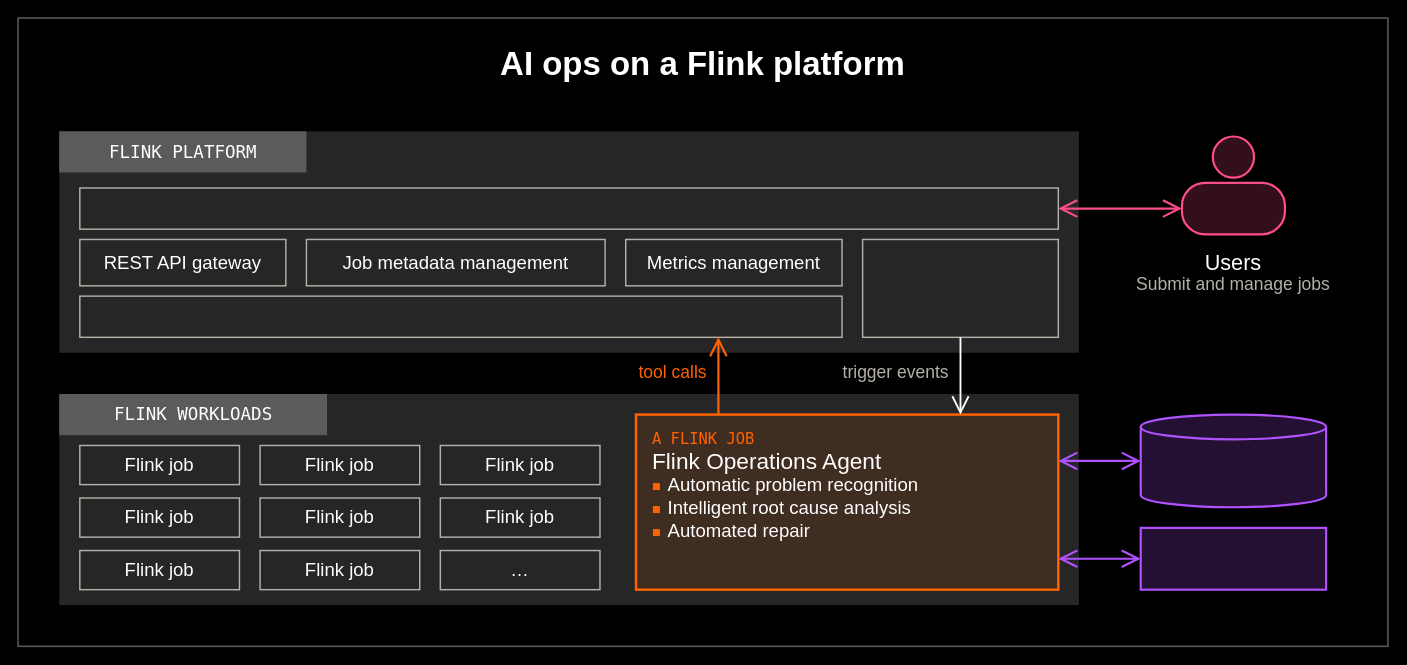
This 1407x665 diagram has some shape labels left out. The shapes that lost their labels are listed below. From the top down, each one's centre as x and y in pixels, then its label:
the point at 569,208: User API (e.g., submit jobs)
the point at 960,288: Automatic inspection
the point at 460,316: Platform API
the point at 1233,460: SOPs & runbooks
the point at 1233,558: LLMs
